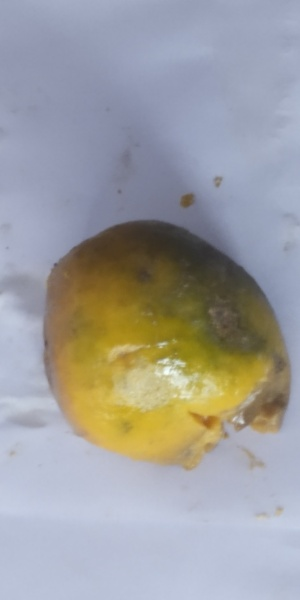BAD: (39, 227, 286, 461)
